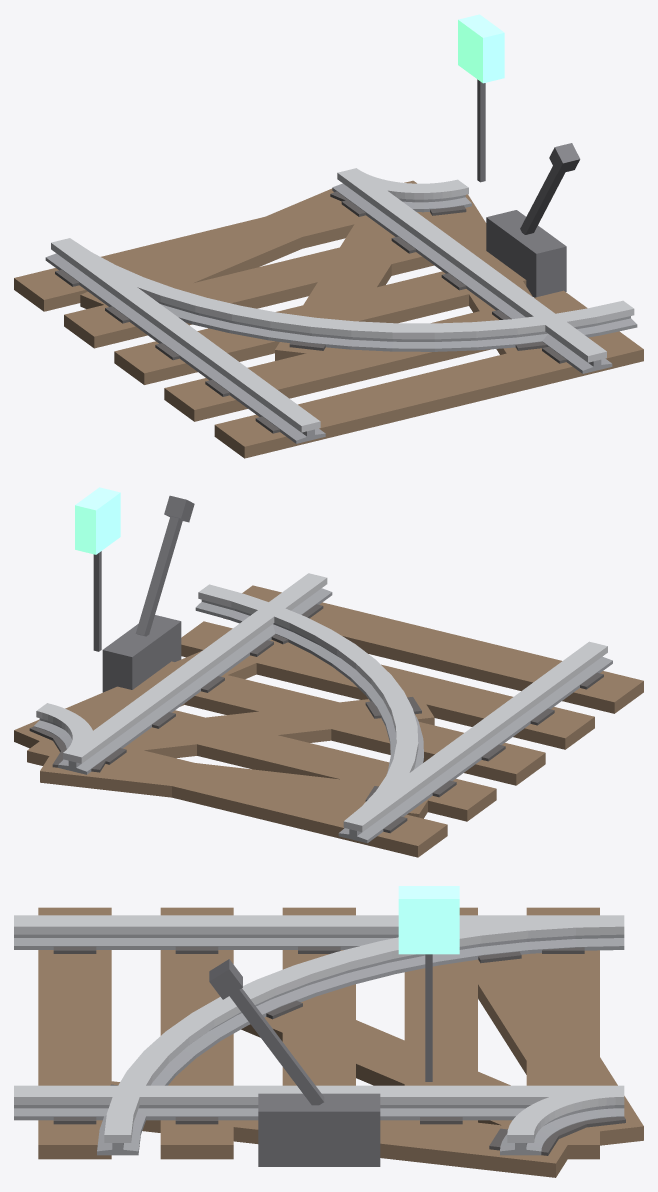
File: switch.gltf
The picture shows the model from 3 angles, top to bottom: view 1: azimuth 30°, elevation 25°; view 2: azimuth 150°, elevation 25°; view 3: azimuth 270°, elevation 25°; orthographic projection. The views are drawn at different scales.
Visible parts, largest first — view 1: switch; view 2: switch; view 3: switch.
Boxes of the visible parts, bbox=[...] form: switch: bbox=[14, 14, 643, 458]; switch: bbox=[14, 487, 643, 857]; switch: bbox=[14, 886, 643, 1177].
Size of the model in its own units: 0.9921 by 0.48 by 1.03.
